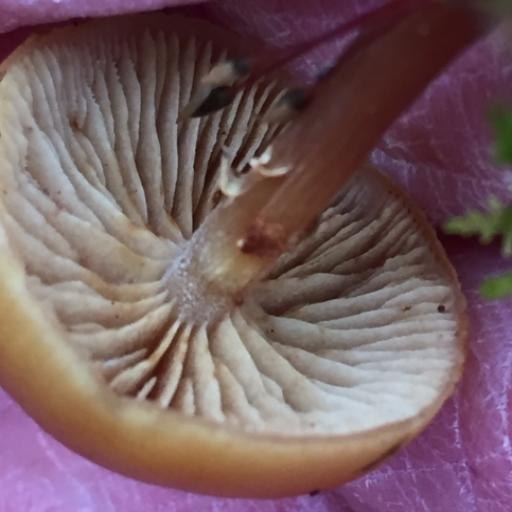mushroom: (2, 8, 482, 501)
